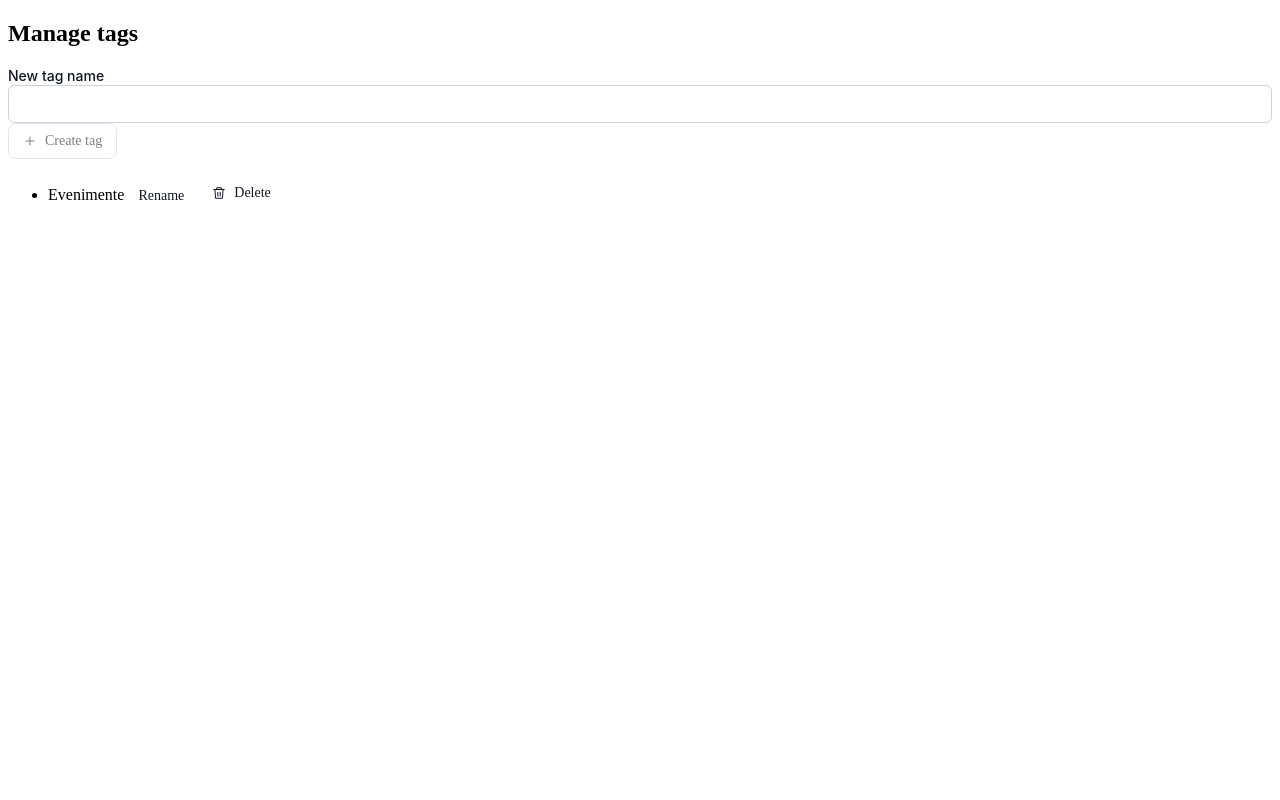
Test: TagManager › confirming deletion removes the tag
The image size is (1280, 800).
Click the button "Delete" at coordinates (242, 193), box [198,175,285,211]
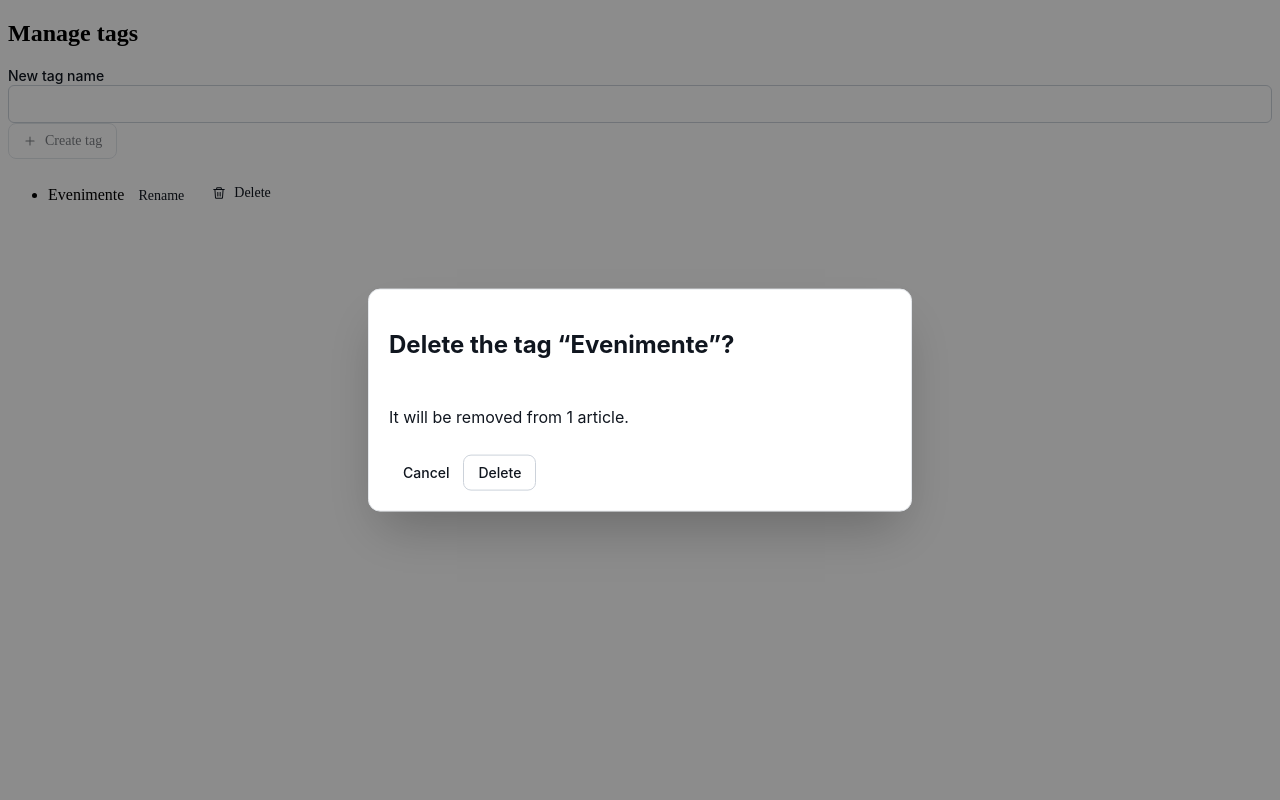
Click the button with test id "tag-delete-confirm" at coordinates (500, 472), box [464,454,536,490]
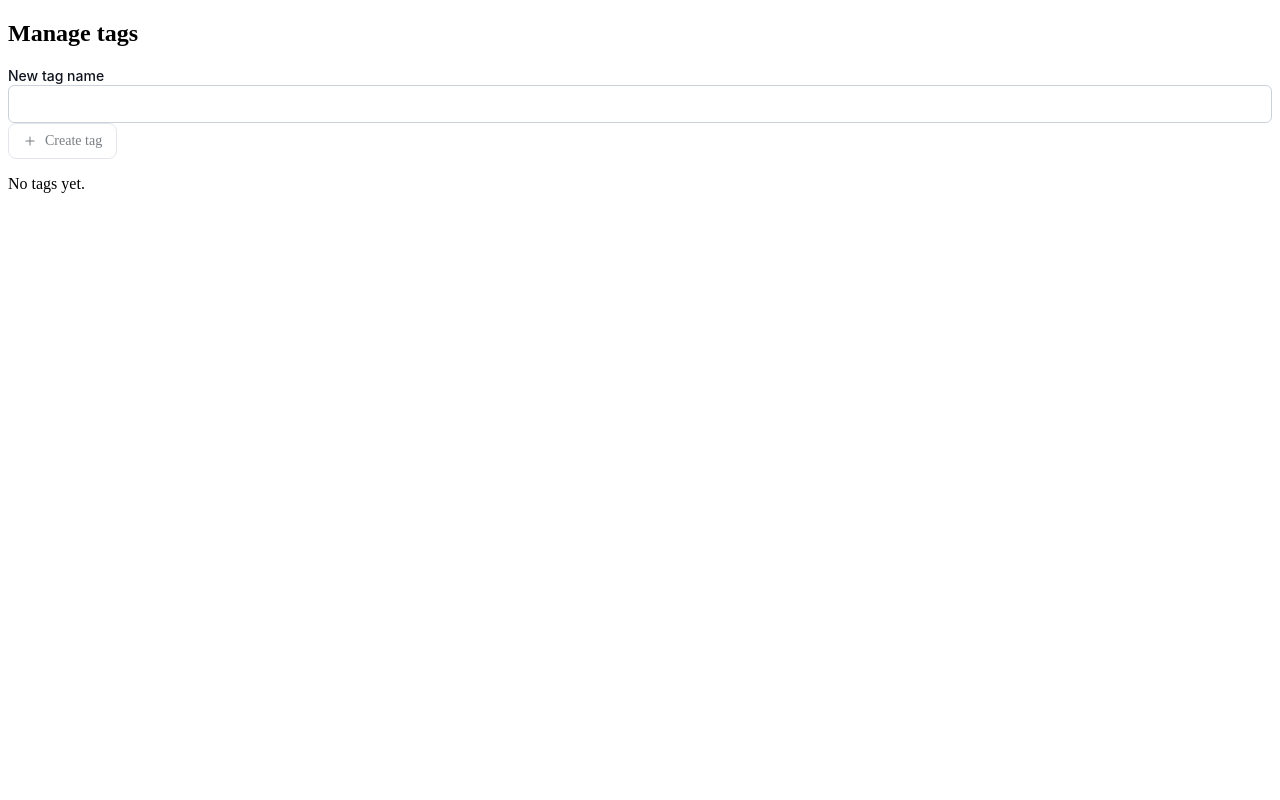
Now the element with test id "tag-manager" shows "No tags yet", box [8,175,85,192]
